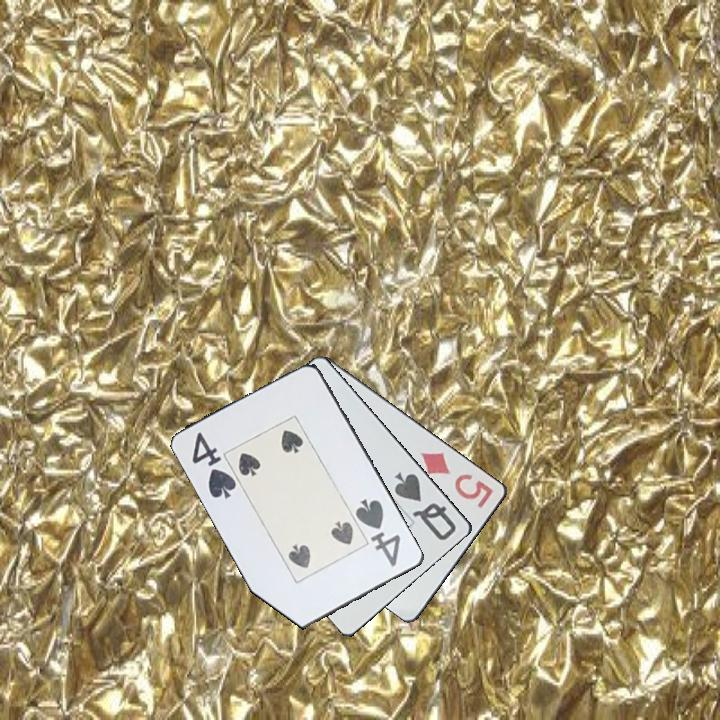4s: (352, 495, 404, 570), (189, 428, 240, 504)
5d: (418, 449, 497, 511)
Qs: (391, 468, 460, 543)
